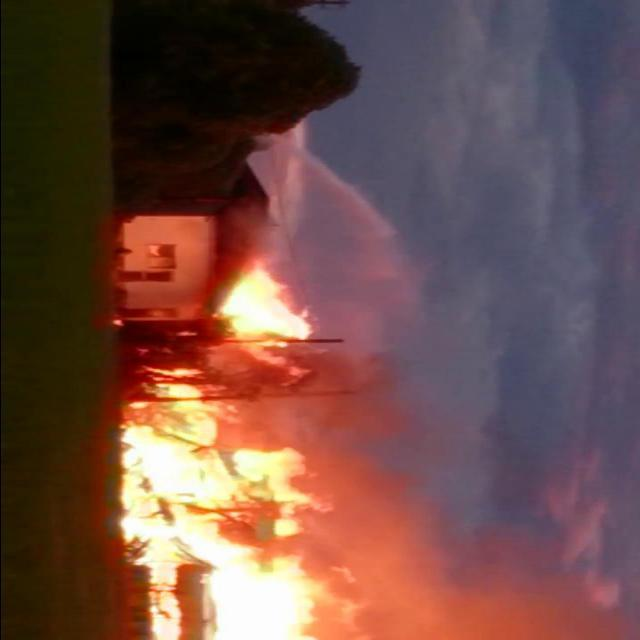Fire: (117, 365, 359, 638), (221, 268, 321, 368)
